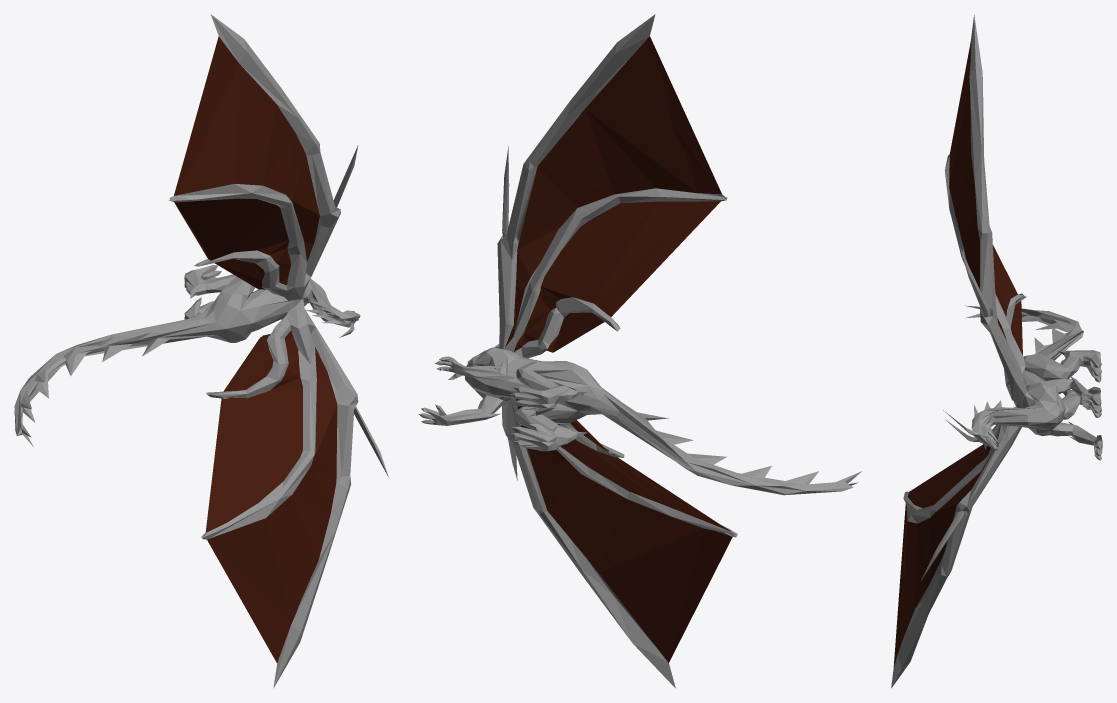
The model's file is Dragon_2.5_For_Animations_000304.obj.
The picture shows the model from 3 angles, left to right: view 1: azimuth 30°, elevation 25°; view 2: azimuth 150°, elevation 25°; view 3: azimuth 270°, elevation 25°; orthographic projection. The views are drawn at different scales.
Parts seen in each view (by area): view 1: Cube_Cube.004; view 2: Cube_Cube.004; view 3: Cube_Cube.004.
Boxes of the visible parts, x1=… form: Cube_Cube.004: x1=14, y1=14, x2=388, y2=688; Cube_Cube.004: x1=418, y1=14, x2=861, y2=688; Cube_Cube.004: x1=891, y1=15, x2=1102, y2=688.
Size of the model in its own units: 83.8 by 150 by 43.36.
